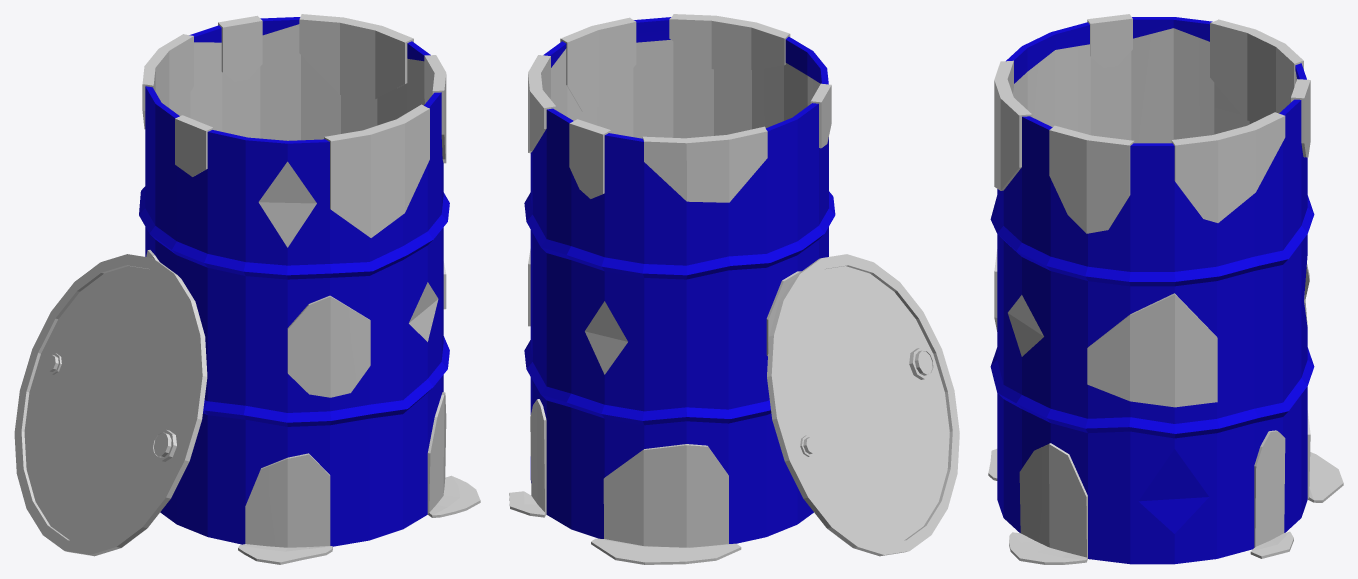
The model's file is SM_Barrel_Open_01.glb.
3 views of the same model, side by side, from view 1: azimuth 30°, elevation 25°; view 2: azimuth 150°, elevation 25°; view 3: azimuth 270°, elevation 25° (orthographic). The views are drawn at different scales.
Visible parts, largest first — view 1: SM_Barrel_Open_01; view 2: SM_Barrel_Open_01; view 3: SM_Barrel_Open_01.
Part boxes in pixels (<box>): SM_Barrel_Open_01: <box>14,14,480,564</box>; SM_Barrel_Open_01: <box>509,14,959,564</box>; SM_Barrel_Open_01: <box>988,14,1343,564</box>.
Bounding box in the file's own units: 0.8513 × 0.8867 × 0.6778.
